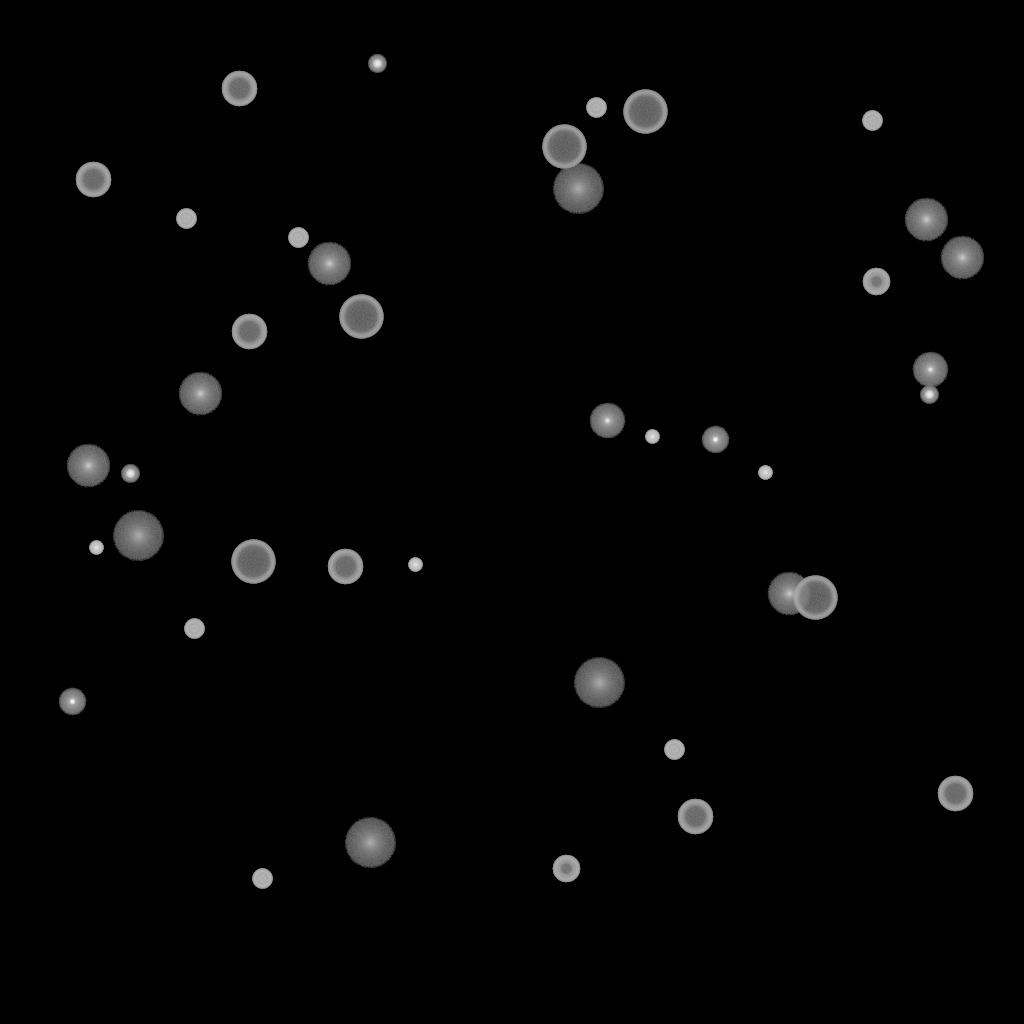depth:-10: (58, 688, 86, 716), (701, 426, 729, 454)
depth:-20: (920, 386, 938, 404), (368, 55, 386, 73), (121, 465, 139, 483)
depth:-30: (408, 558, 422, 572), (89, 541, 103, 555), (758, 466, 772, 480), (645, 430, 659, 444)
depth:-40: (862, 111, 882, 131), (586, 98, 606, 118), (176, 209, 196, 229), (252, 869, 272, 889), (664, 740, 684, 760), (184, 619, 204, 639), (288, 228, 308, 248)
depth:-50: (862, 268, 890, 296), (552, 855, 580, 883)
depth:-60: (937, 776, 973, 812), (327, 549, 363, 585), (677, 799, 713, 835), (231, 314, 267, 350), (75, 162, 111, 198), (221, 71, 257, 107)
depth:-70: (623, 90, 667, 134), (793, 576, 837, 620), (339, 295, 383, 339), (542, 125, 586, 169), (231, 540, 275, 584)
depth:0: (912, 352, 948, 388), (589, 403, 625, 439)
depth:10: (307, 242, 351, 286), (940, 236, 984, 280), (178, 372, 222, 416), (904, 198, 948, 242), (66, 444, 110, 488), (767, 572, 811, 616)
depth:20: (344, 818, 396, 868), (573, 658, 625, 708), (112, 511, 164, 561), (552, 164, 604, 214)
